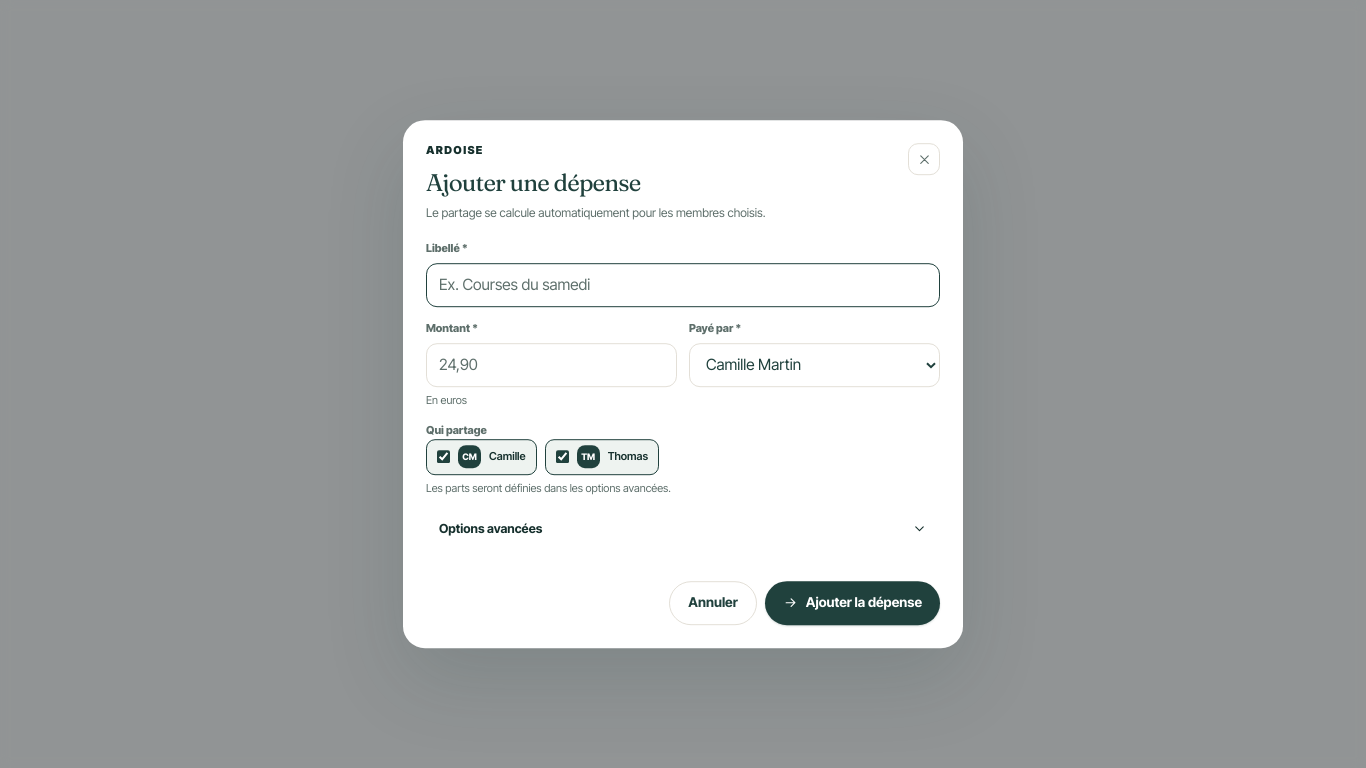
ExpenseFormDialog — payeur libre › exige un nom pour « Autre personne… »
Type "Fleurs" into the field labelled "Libellé *" at (683, 285), box [426,263,940,307]
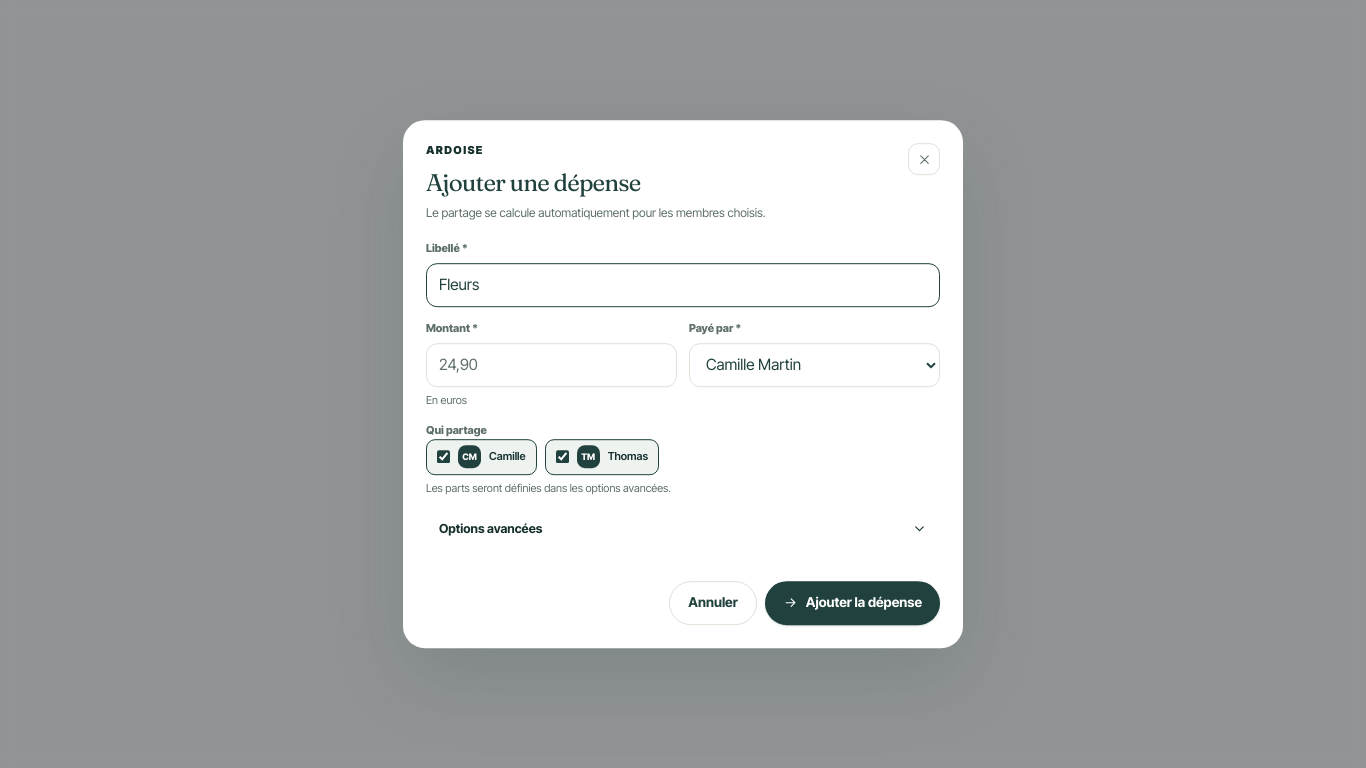
Type "15" into the number field labelled "Montant *" at (552, 365), box [426,343,677,387]
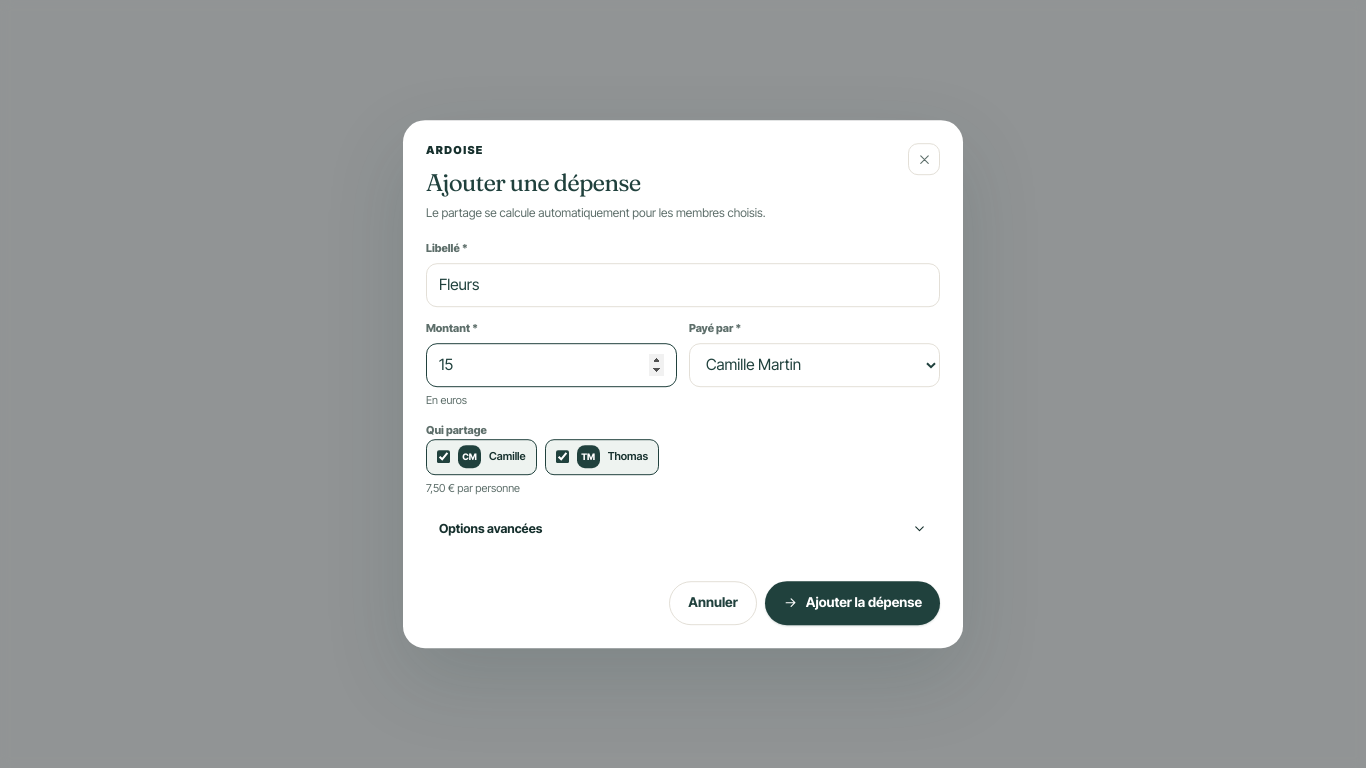
Select "Autre personne…" in the dropdown labelled "Payé par *" at (814, 365), box [689,343,940,387]
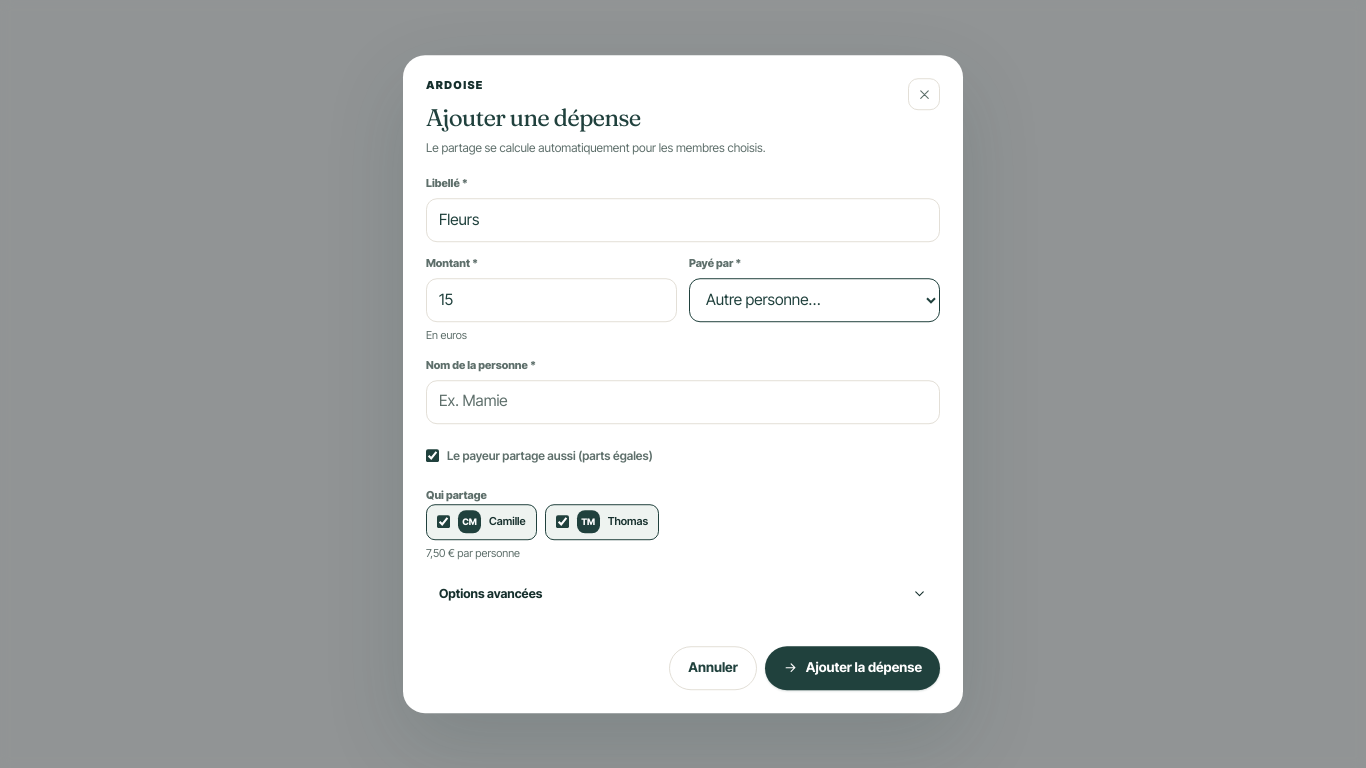
Now the field labelled "Nom de la personne *" is shown, box [426,380,940,424]
Click the button "Ajouter la dépense" at (852, 668), box [765,646,940,690]
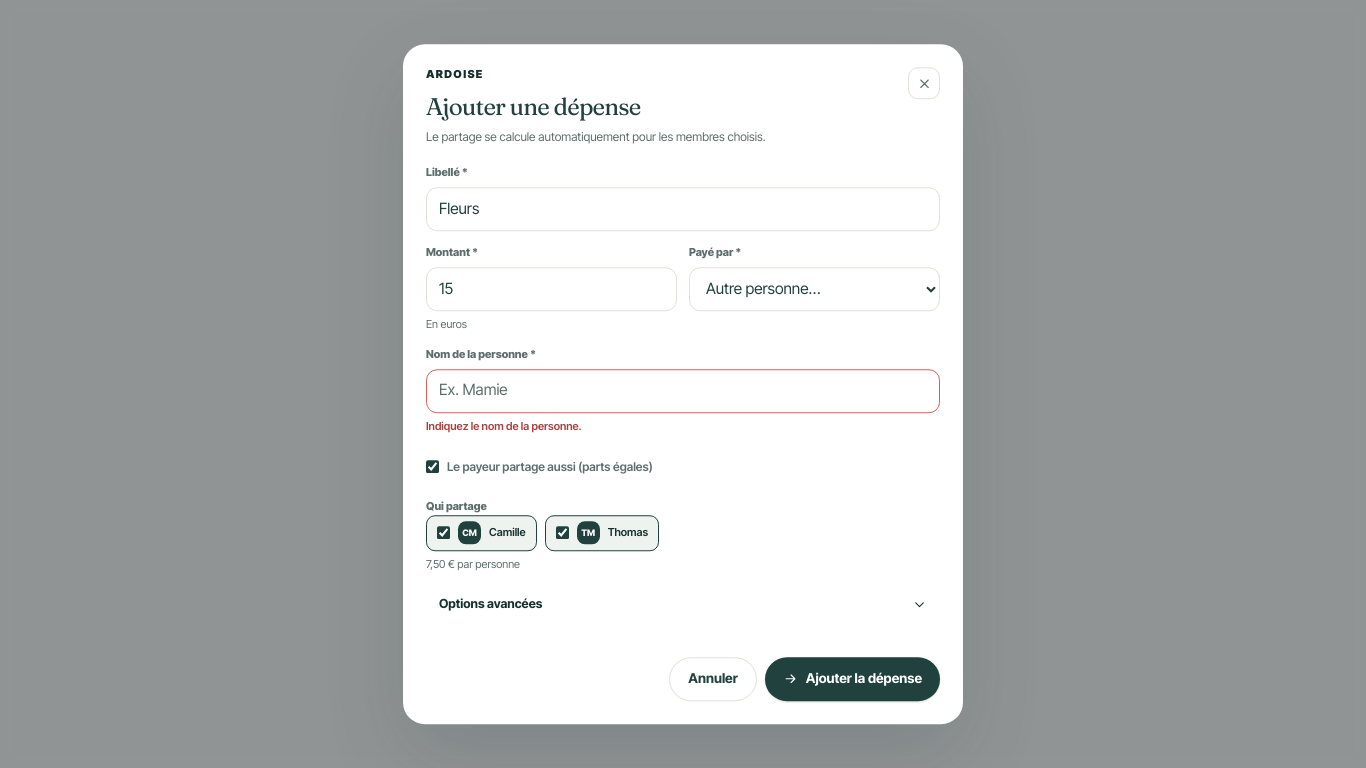
Now the text "Indiquez le nom de la personne." is shown, box [426,419,582,433]
